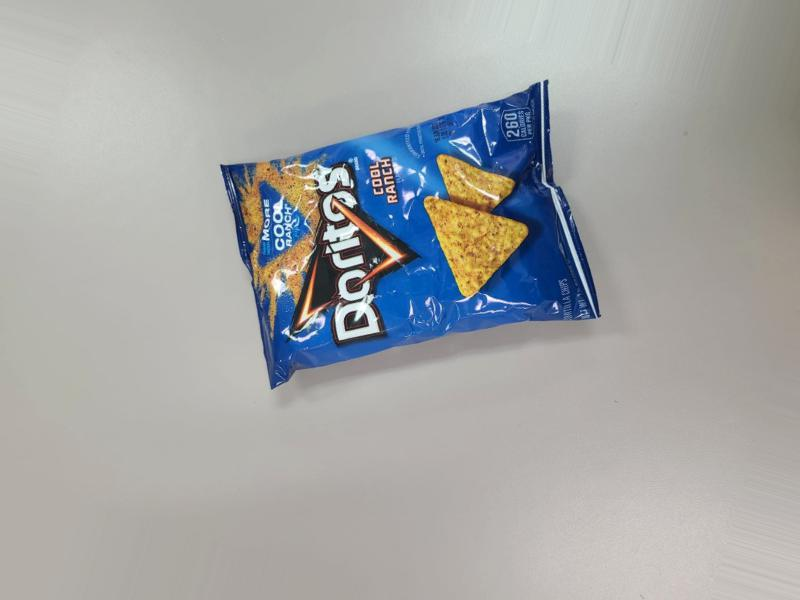doritos: (194, 105, 612, 429)
